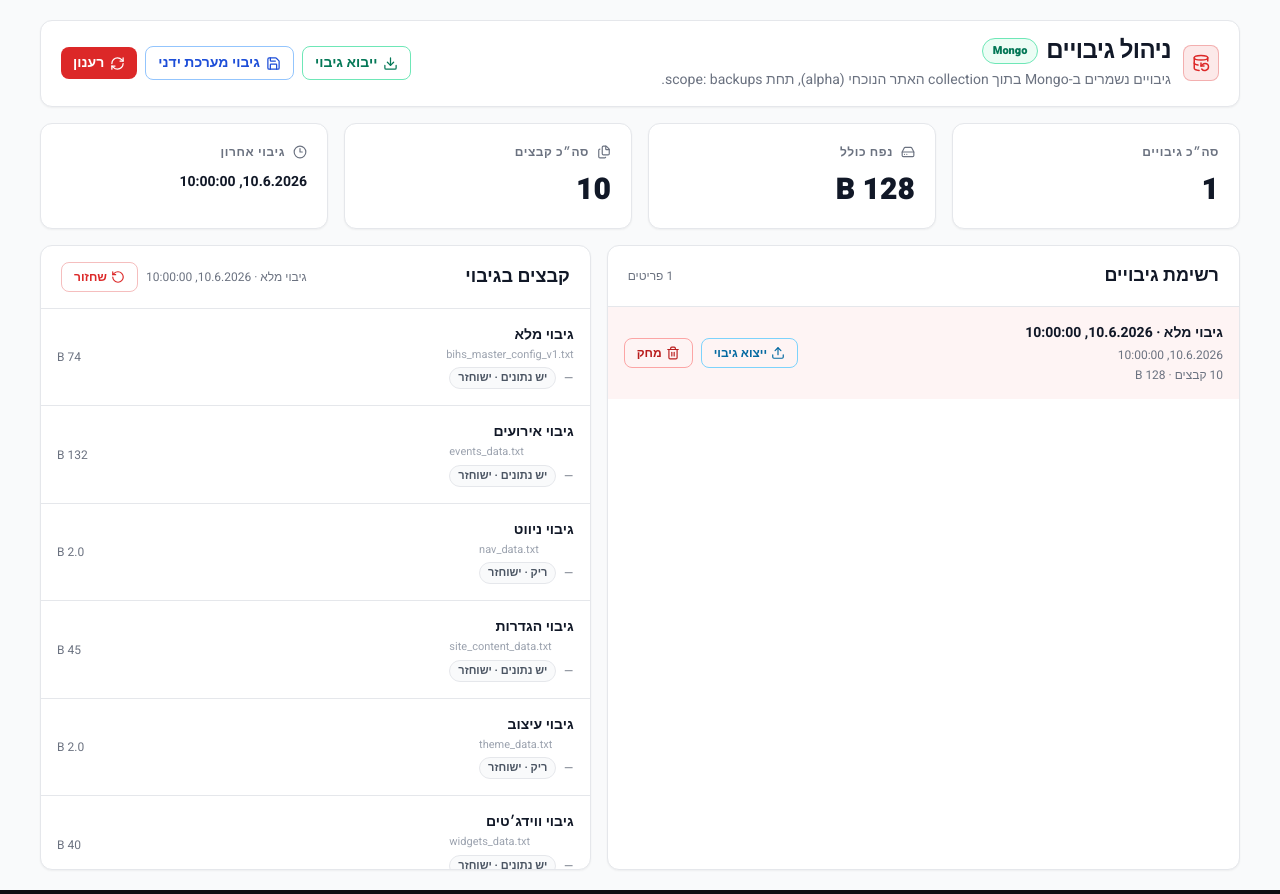
it: AdminBackupManagement › shows Mongo backup creation errors
The image size is (1280, 894).
Expected: the text "1 פריטים" is shown, [628, 268, 673, 284]
Click the button "גיבוי מערכת ידני".
click(220, 63)  # box [145, 46, 294, 80]
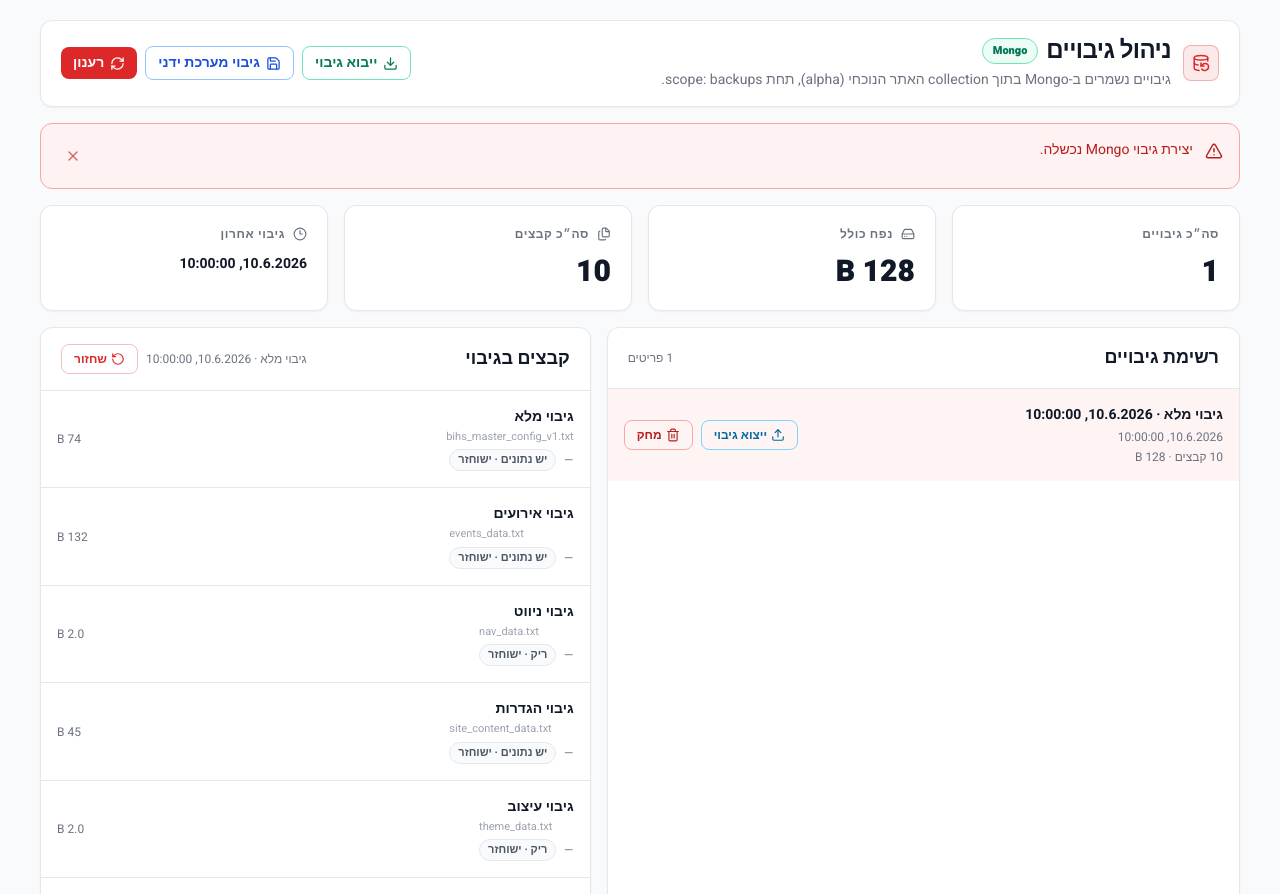
Now the text "יצירת גיבוי Mongo נכשלה." is shown, box [1040, 140, 1193, 160]
